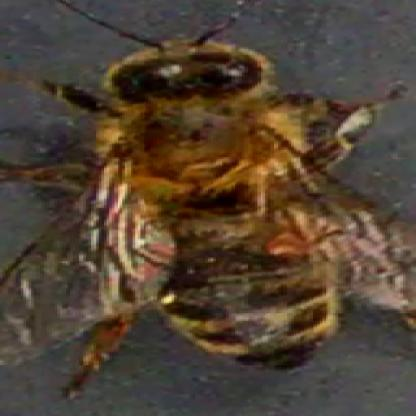bee: (73, 32, 376, 362)
vaoora: (261, 233, 320, 254)
